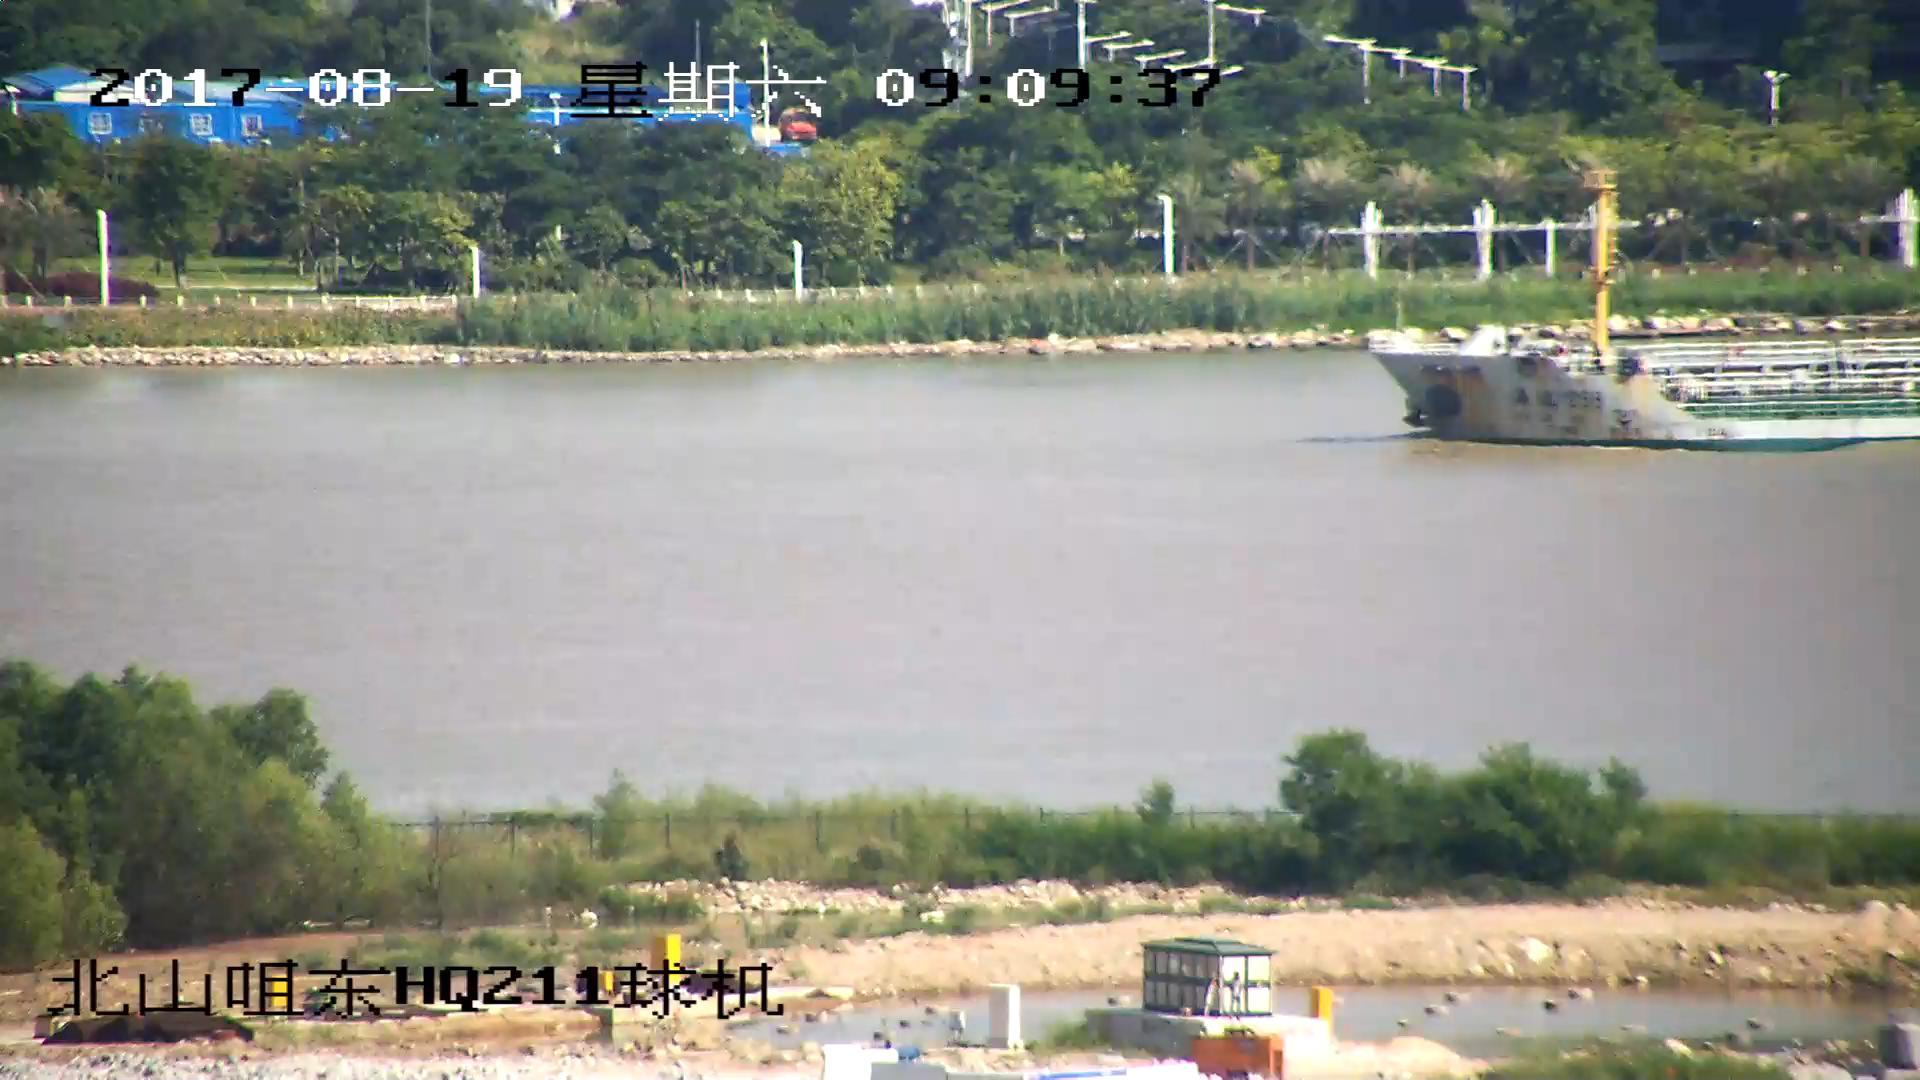Ship: (1379, 193, 1920, 442)
